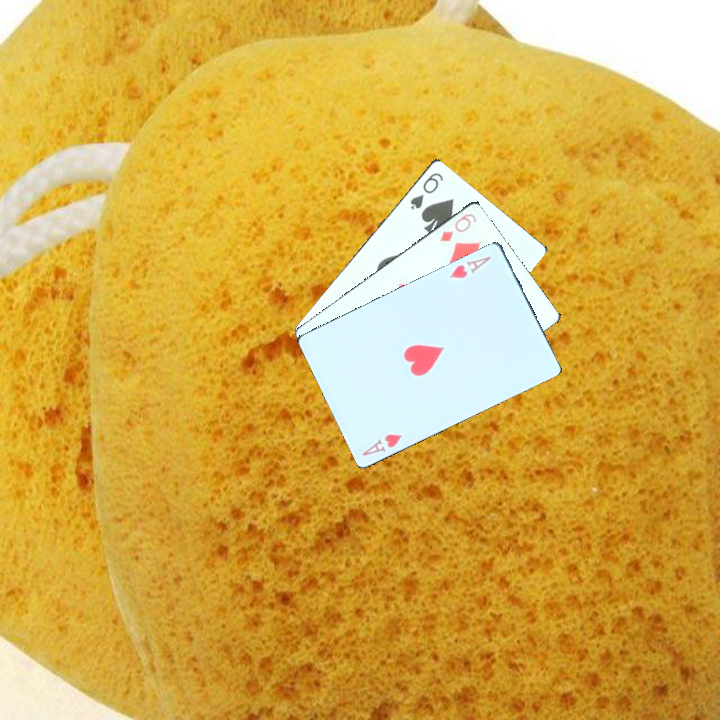6d: (435, 209, 479, 244)
6s: (406, 168, 446, 212)
Ah: (446, 252, 493, 281), (358, 430, 405, 459)
